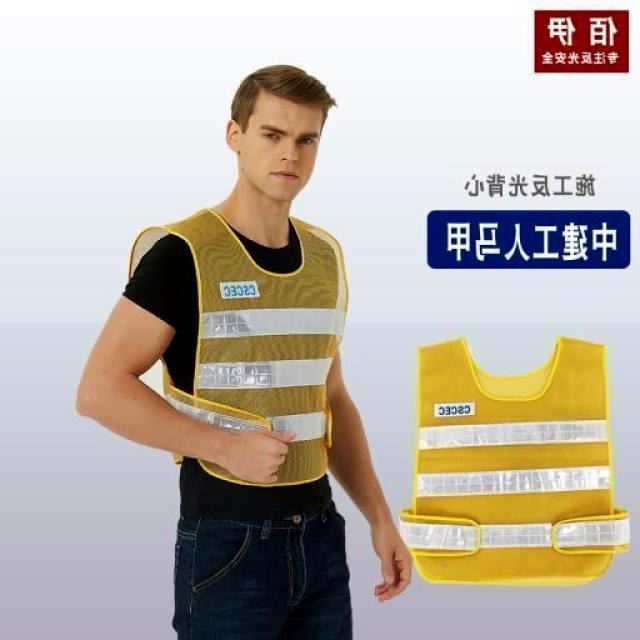no_head_wear: (231, 65, 335, 126)
person: (68, 61, 423, 639)
